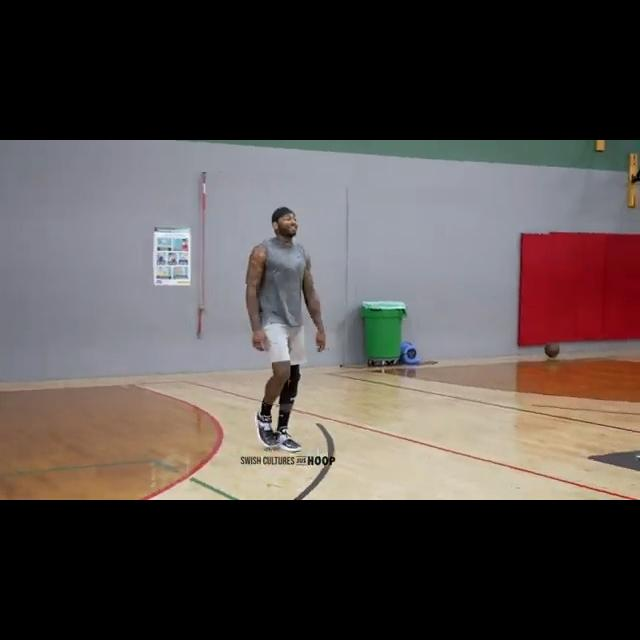basketball: (545, 342, 562, 358)
person: (246, 205, 329, 456)
